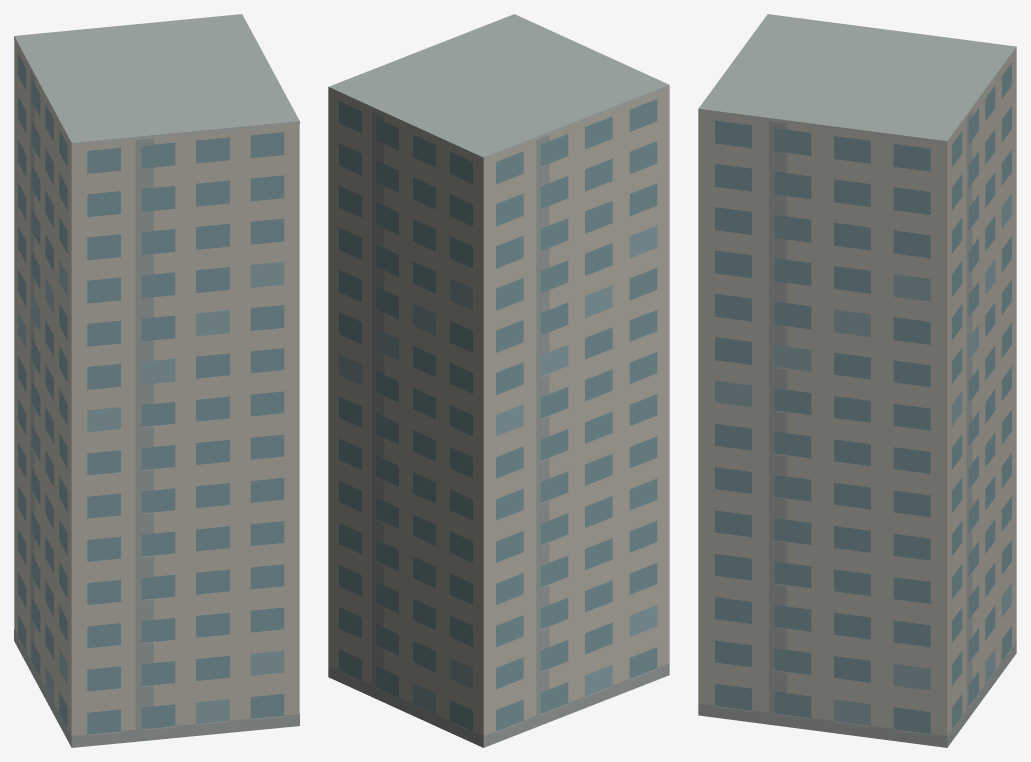
Rendered from residential-7102bc92-bfe3-4600-9928-77ee9fd8aa53.glb.
3 views of the same model, side by side, from view 1: azimuth 30°, elevation 25°; view 2: azimuth 150°, elevation 25°; view 3: azimuth 270°, elevation 25° (orthographic). The views are drawn at different scales.
Parts seen in each view (by area): view 1: residential-7102bc92-bfe3-4600-9928-77ee9fd8aa53.tmp; view 2: residential-7102bc92-bfe3-4600-9928-77ee9fd8aa53.tmp; view 3: residential-7102bc92-bfe3-4600-9928-77ee9fd8aa53.tmp.
Boxes of the visible parts, bbox=[...] form: residential-7102bc92-bfe3-4600-9928-77ee9fd8aa53.tmp: bbox=[14, 14, 299, 747]; residential-7102bc92-bfe3-4600-9928-77ee9fd8aa53.tmp: bbox=[328, 14, 669, 747]; residential-7102bc92-bfe3-4600-9928-77ee9fd8aa53.tmp: bbox=[698, 14, 1016, 747].
Bounding box in the file's own units: 19.35 × 43 × 20.45.
